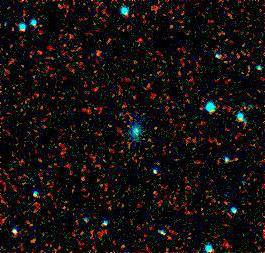star: (83, 54, 113, 84)
